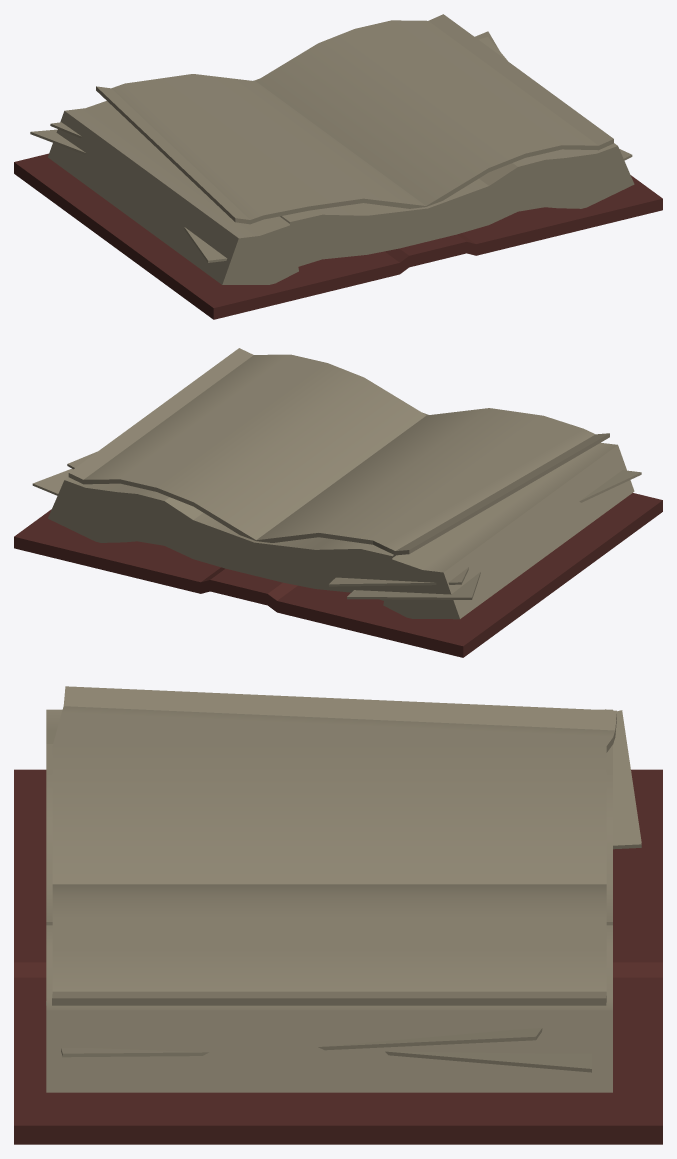
File: book.glb
The picture shows the model from 3 angles, top to bottom: view 1: azimuth 30°, elevation 25°; view 2: azimuth 150°, elevation 25°; view 3: azimuth 270°, elevation 25°; orthographic projection. The views are drawn at different scales.
Parts seen in each view (by area): view 1: Book2_Open; view 2: Book2_Open; view 3: Book2_Open.
Boxes of the visible parts, bbox=[...] form: Book2_Open: bbox=[14, 14, 662, 319]; Book2_Open: bbox=[14, 348, 662, 657]; Book2_Open: bbox=[14, 686, 662, 1144].
Bounding box in the file's own units: 0.9292 × 0.1657 × 0.7102.
